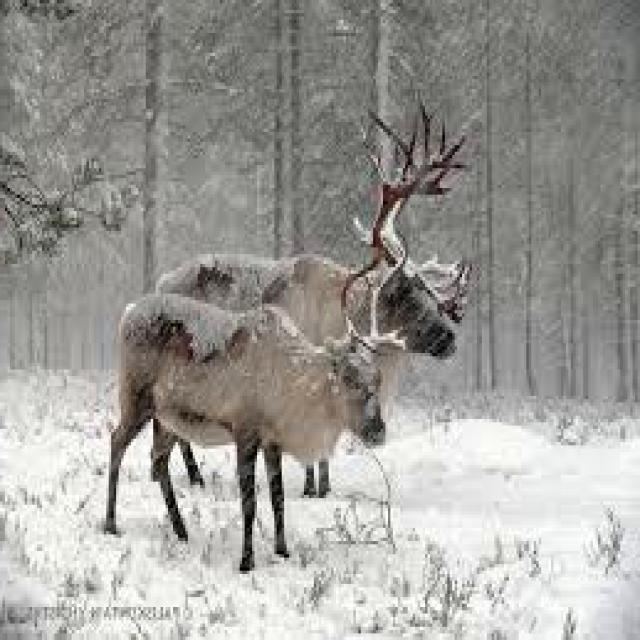reindeer: (106, 231, 408, 567)
